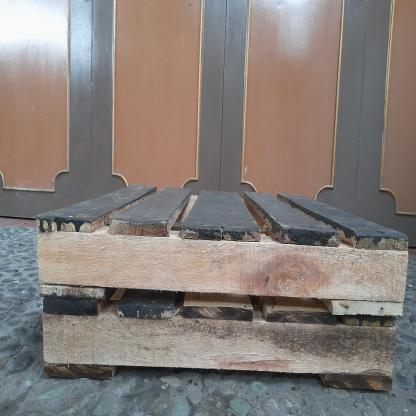Wooden-Pallet: (35, 183, 409, 316), (42, 300, 401, 393)
